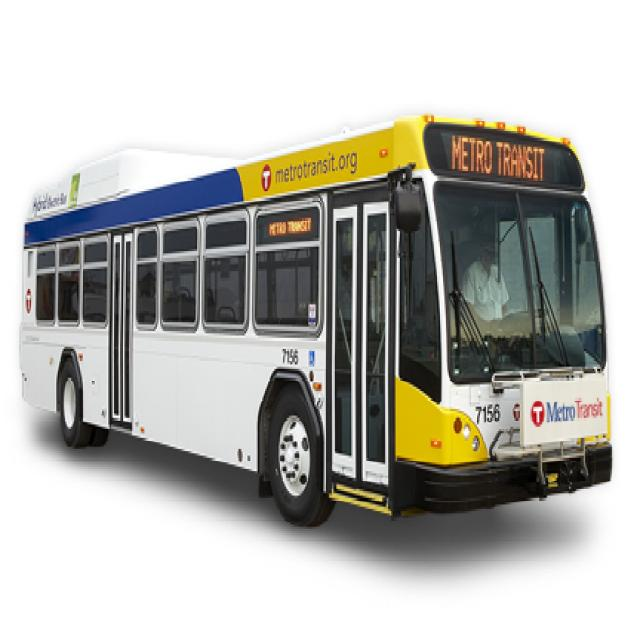bus: (9, 126, 622, 568)
